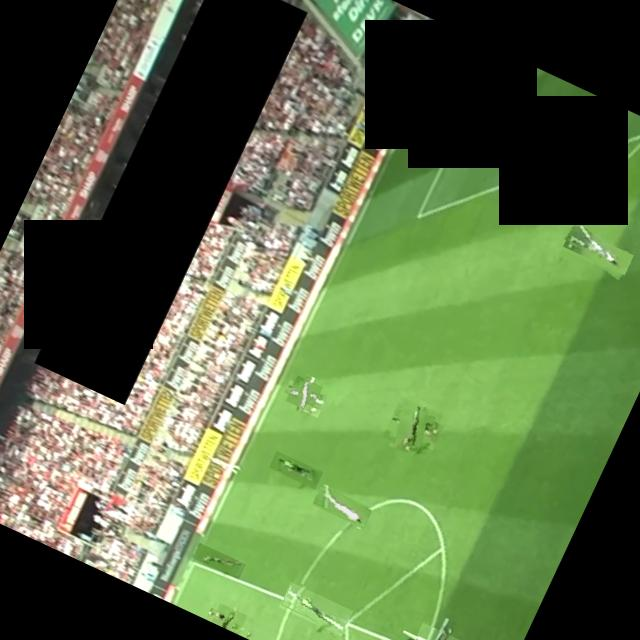ball: (302, 403, 320, 417)
goalkeeper: (502, 130, 550, 178)
soccer-player: (560, 223, 635, 278), (278, 582, 352, 636), (381, 396, 442, 456), (311, 484, 372, 528), (268, 450, 322, 490), (192, 542, 244, 580), (284, 376, 322, 412), (210, 602, 246, 634), (402, 622, 463, 640)
